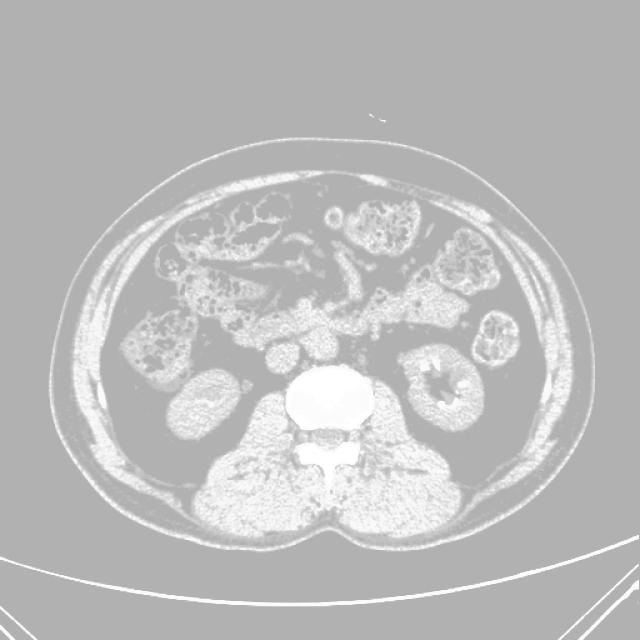STONE: (145, 277, 522, 455)
